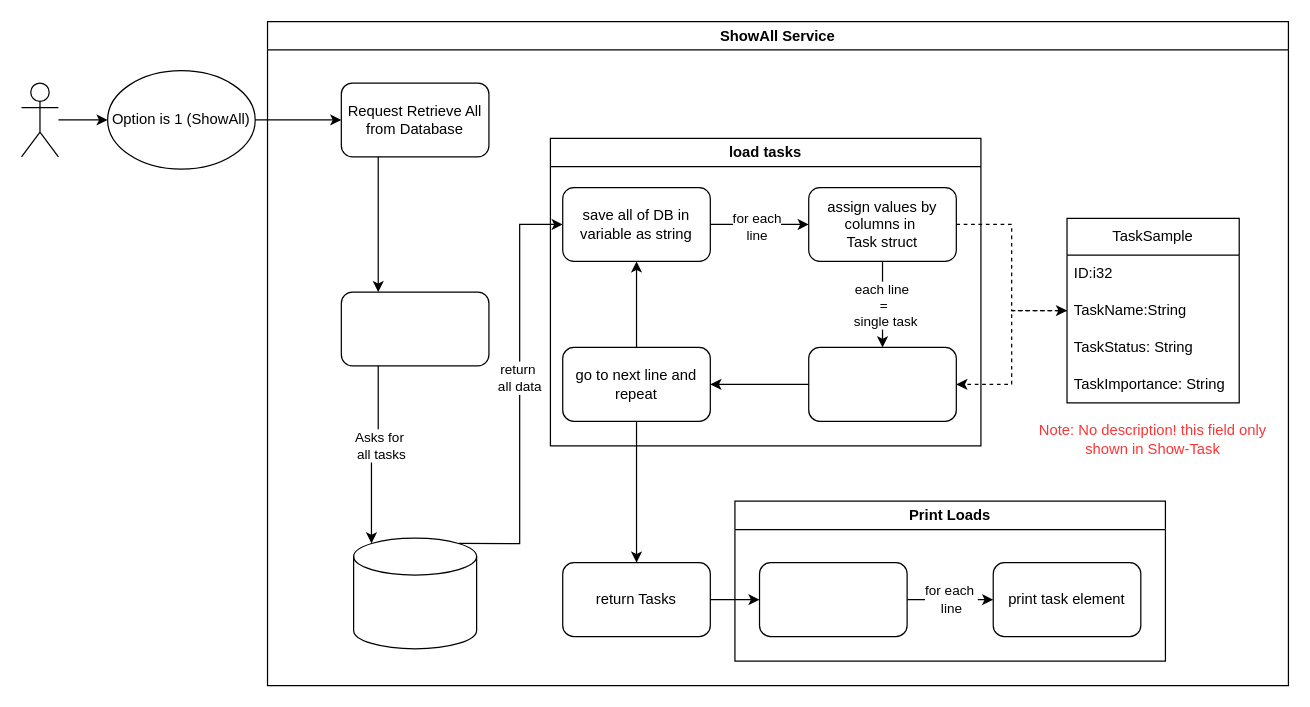
Some shapes in this 1310 by 707 pixel diagram are drawn without their labels. Here are the shapes that lost their labels. From the top down, the centre of each, then its label:
At (39,119): "User".
At (414,328): "Retrieve All".
At (881,383): "save task to vector".
At (414,593): "Database.csv".
At (832,599): "receive [Task]".
